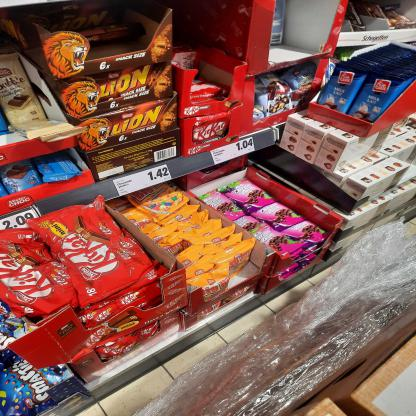prtg: (113, 165, 173, 197), (211, 138, 256, 166), (1, 210, 39, 231)
